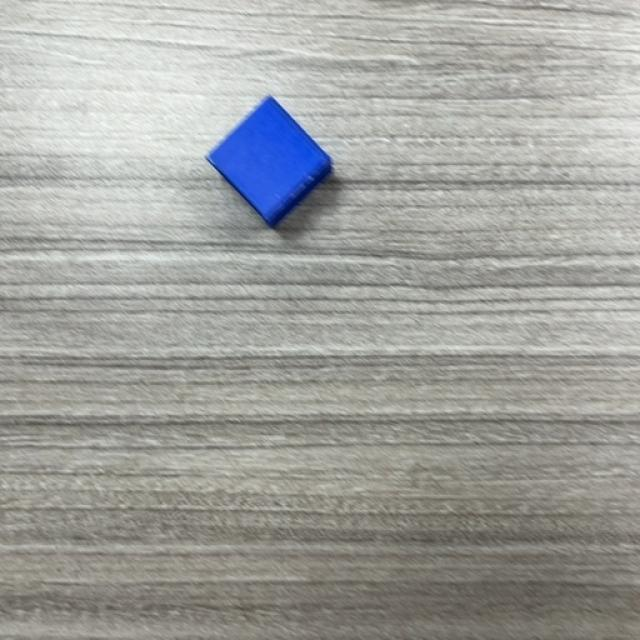Azul: (206, 96, 334, 229)
